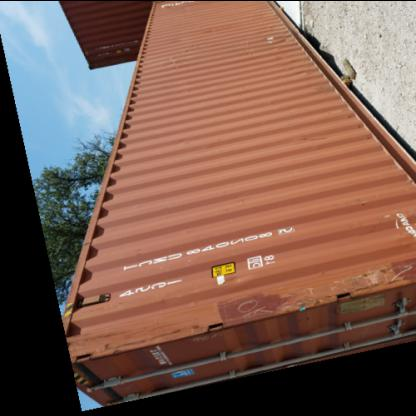Damage: (211, 284, 325, 329), (333, 255, 413, 296), (261, 30, 294, 51), (192, 19, 220, 36), (164, 50, 178, 66)
